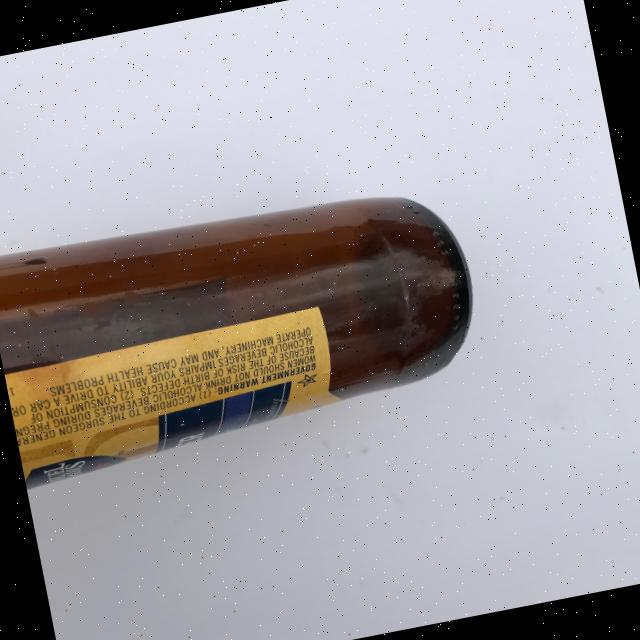glass: (0, 162, 502, 486)
